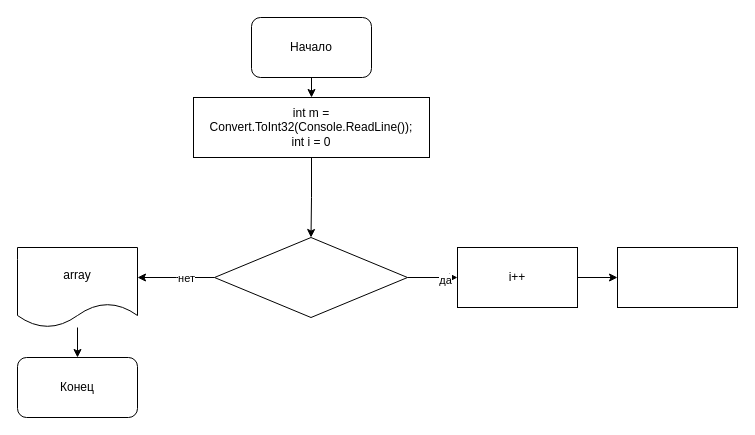
This 755x435 diagram has some shape labels left out. Here are the shapes that lost their labels. From the top down, the centre of each, then its label:
At point (311, 277): "i < stringArray.Length".
At point (677, 277): "введите i+1 эллемент массива".
